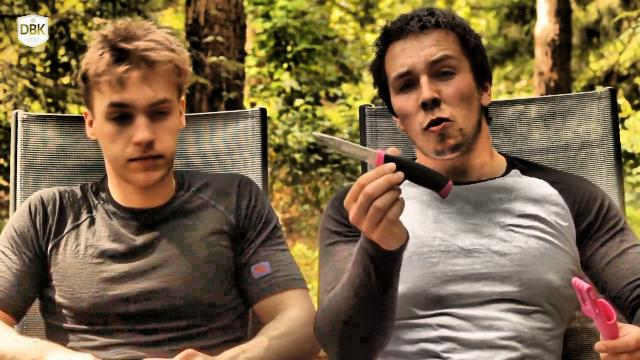knife: (300, 123, 458, 213)
